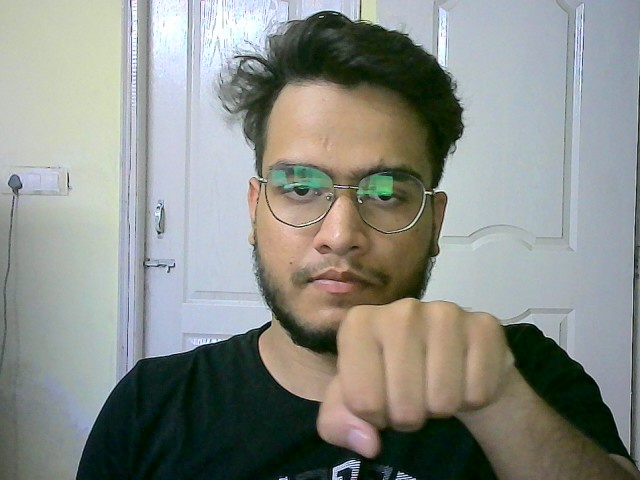Yes: (320, 286, 526, 450)
